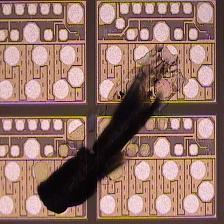PARTICLE: (32, 44, 194, 217)
